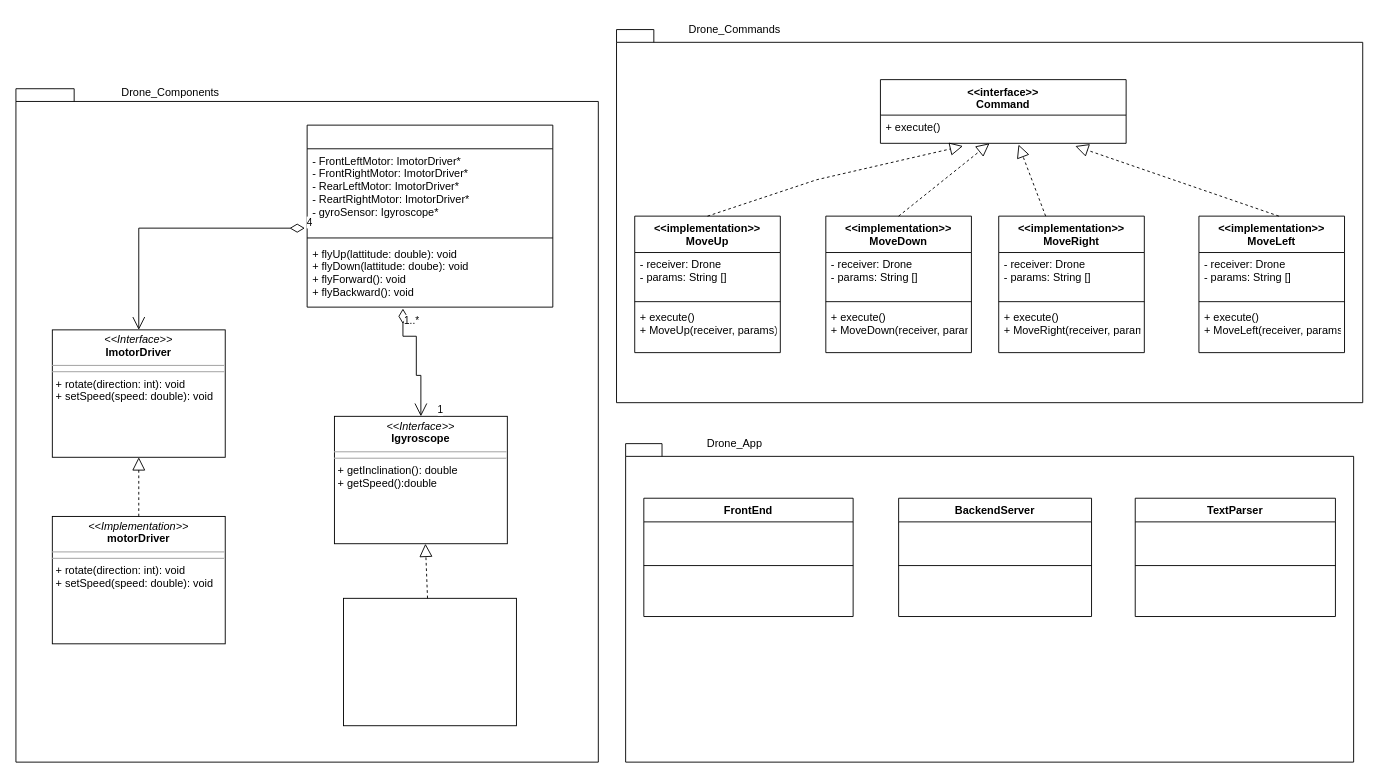
Some shapes in this 1379 by 778 pixel diagram are drawn without their labels. The box of each missing label's shape, as (x1, y1, x2, y2) in pixels:
<<Implementation>> gyroscope + getInclination(): double + getSpeed():double: (343, 597, 516, 726)
Drone: (306, 124, 553, 307)
